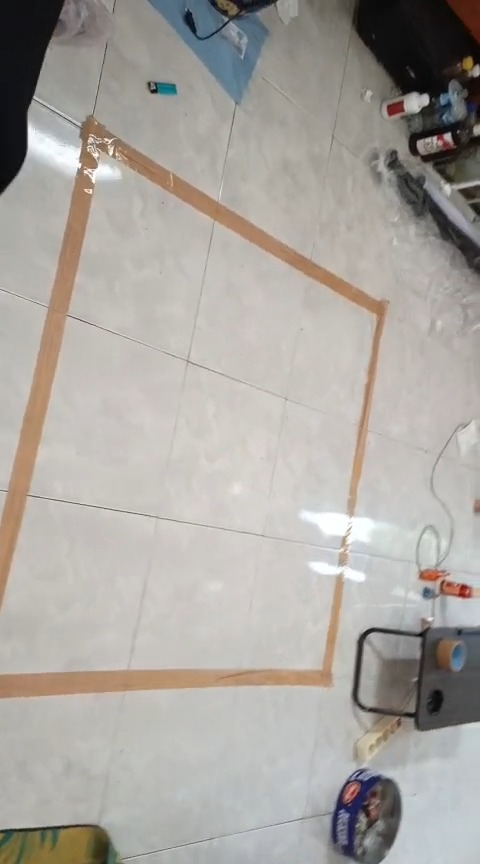floor marking: (0, 115, 386, 607), (0, 575, 342, 696)
